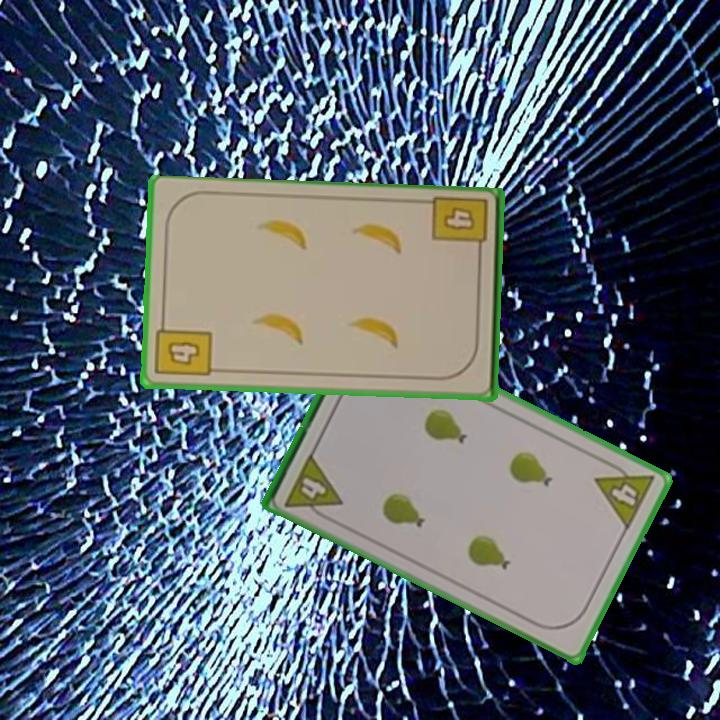4b: (429, 194, 491, 260), (152, 316, 215, 380)
4p: (591, 455, 658, 533), (281, 449, 346, 525)
